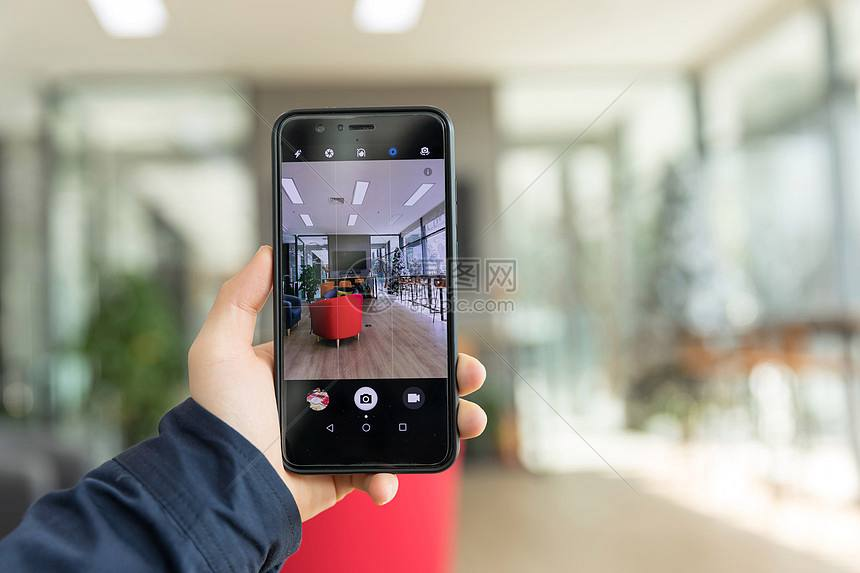taking photos: (182, 99, 496, 518)
